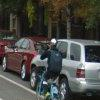Bicycle: (30, 65, 72, 100)
